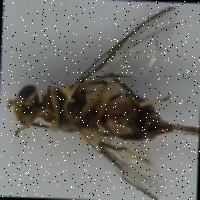Oriental-fruit-fly: (1, 0, 194, 200)
